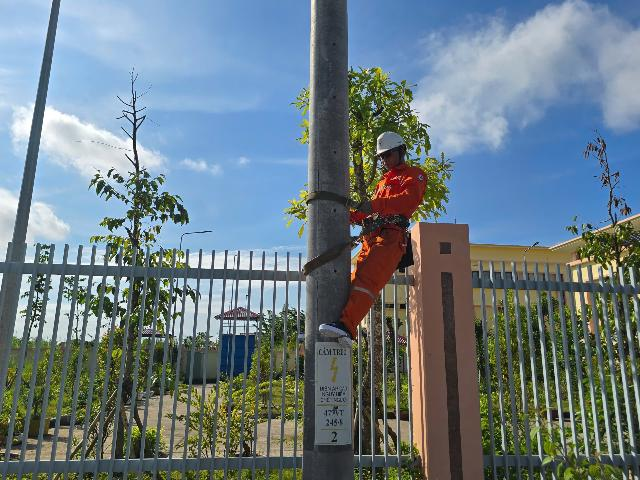gloves: (355, 197, 381, 219)
harness: (358, 208, 412, 238)
helmet: (373, 125, 412, 167)
shoes: (315, 313, 360, 343)
